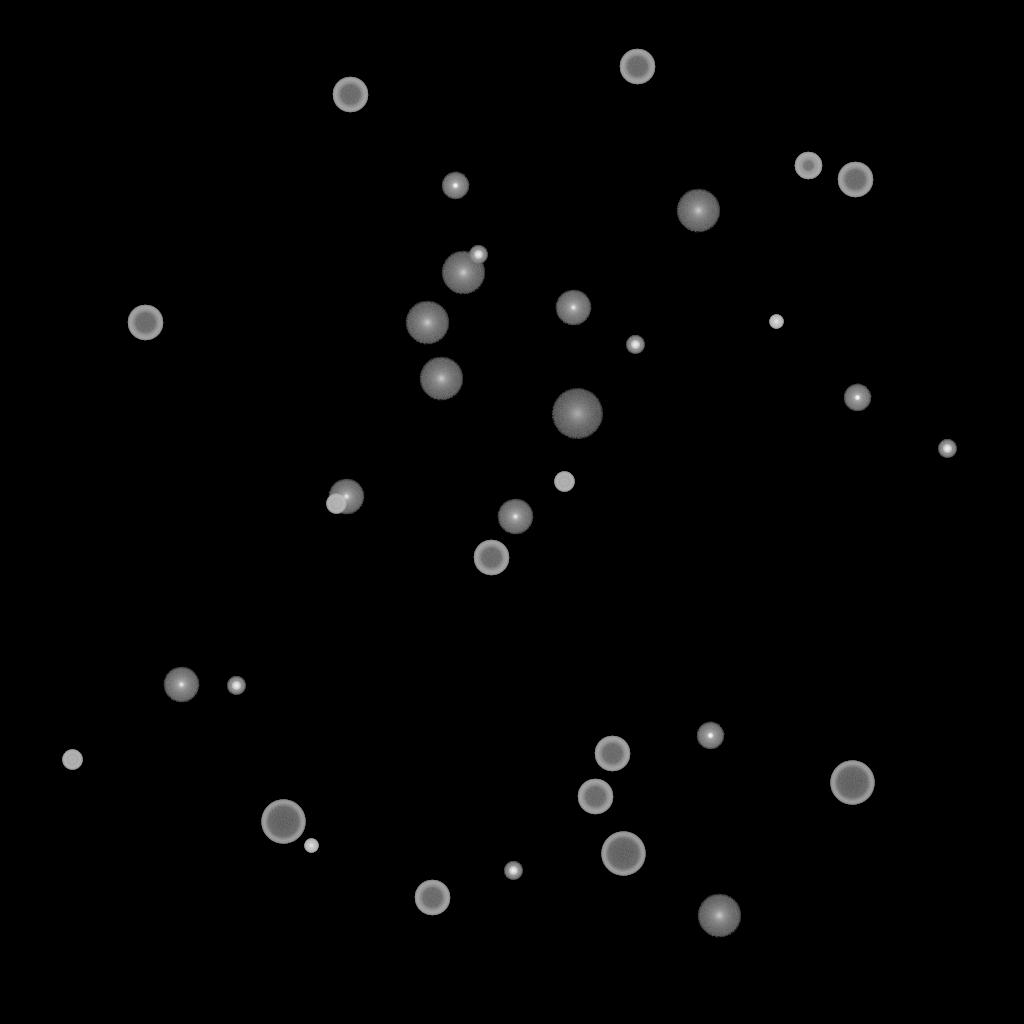depth:-10: (696, 722, 724, 750), (441, 172, 469, 200), (843, 384, 871, 412)
depth:-20: (626, 336, 644, 354), (938, 440, 956, 458), (504, 862, 522, 880), (227, 677, 245, 695), (469, 246, 487, 264)
depth:-30: (769, 315, 783, 329), (304, 839, 318, 853)
depth:-40: (554, 472, 574, 492), (326, 494, 346, 514), (62, 750, 82, 770)
depth:-50: (794, 152, 822, 180)
depth:-60: (332, 77, 368, 113), (577, 779, 613, 815), (414, 880, 450, 916), (594, 736, 630, 772), (473, 540, 509, 576), (837, 162, 873, 198), (127, 305, 163, 341), (619, 49, 655, 85)
depth:-70: (601, 832, 645, 876), (830, 761, 874, 805), (261, 800, 305, 844)
depth:0: (328, 479, 364, 515), (497, 499, 533, 535), (555, 290, 591, 326), (163, 667, 199, 703)
depth:10: (697, 894, 741, 938), (419, 357, 463, 401), (676, 189, 720, 233), (405, 301, 449, 345), (441, 251, 485, 295)
depth:20: (551, 389, 603, 439)
